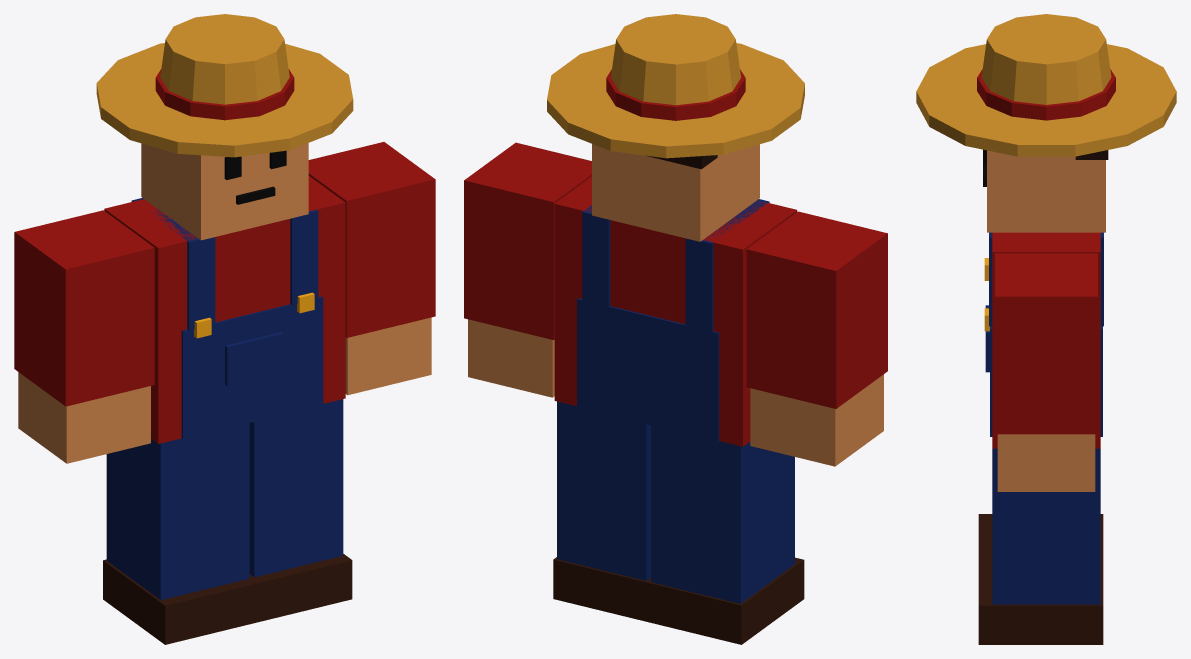
The model's file is Farmhand.obj.
The picture shows the model from 3 angles, left to right: view 1: azimuth 30°, elevation 25°; view 2: azimuth 150°, elevation 25°; view 3: azimuth 270°, elevation 25°; orthographic projection.
Parts seen in each view (by area): view 1: Farmhand; view 2: Farmhand; view 3: Farmhand.
Part boxes in pixels (left/top/right/bottom): Farmhand: left=14, top=14, right=435, bottom=644; Farmhand: left=464, top=14, right=887, bottom=644; Farmhand: left=916, top=14, right=1176, bottom=644.
Size of the model in its own units: 1.11 by 1.6 by 0.672.
